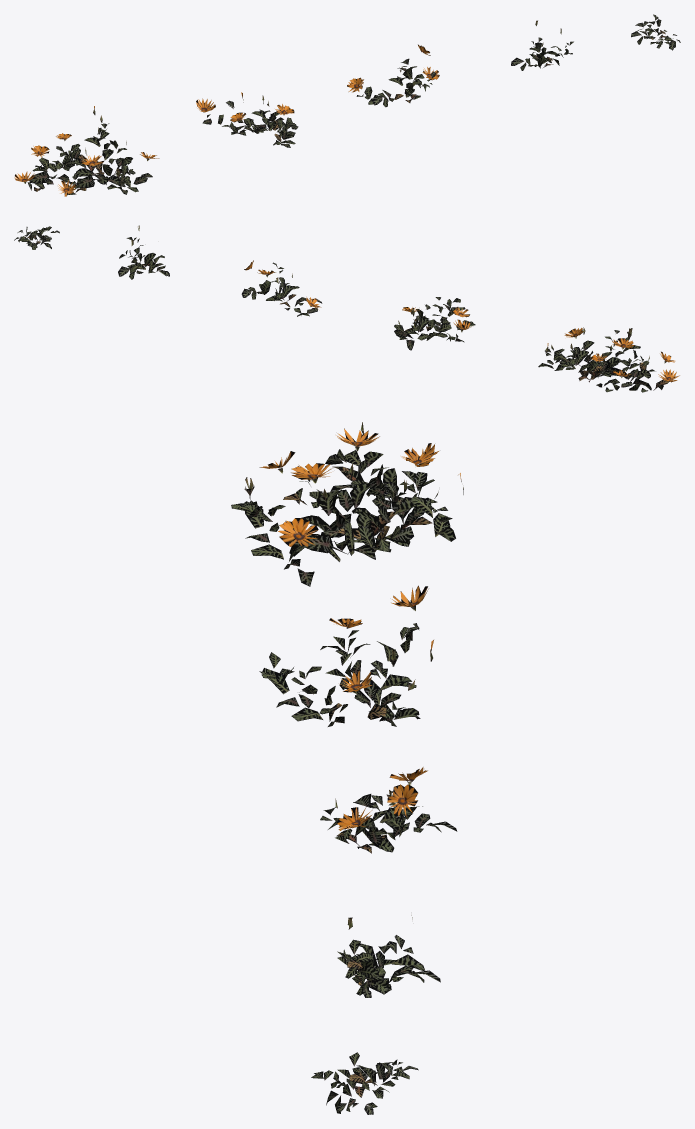
Rendered from flower_ursinia.glb.
3 views of the same model, one above another, from view 1: azimuth 30°, elevation 25°; view 2: azimuth 150°, elevation 25°; view 3: azimuth 270°, elevation 25° (orthographic). The views are drawn at different scales.
Visible parts, largest first — view 1: flower_ursinia_a_LOD0; view 2: flower_ursinia_a_LOD0; view 3: flower_ursinia_a_LOD0.
Boxes of the visible parts, box(x1,y1,x2,y2) form: flower_ursinia_a_LOD0: box(14, 14, 680, 196); flower_ursinia_a_LOD0: box(14, 225, 679, 392); flower_ursinia_a_LOD0: box(231, 422, 463, 1114).
Bounding box in the file's own units: 2.19 × 0.1693 × 0.3342.
1 material, 1 textured.
